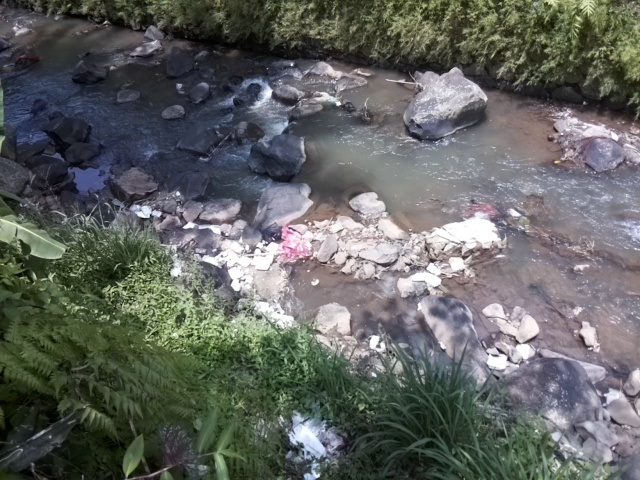Sampah_Plastik: (277, 225, 316, 265), (261, 221, 285, 241)
Sampah_Styrofoam: (216, 238, 276, 275)
